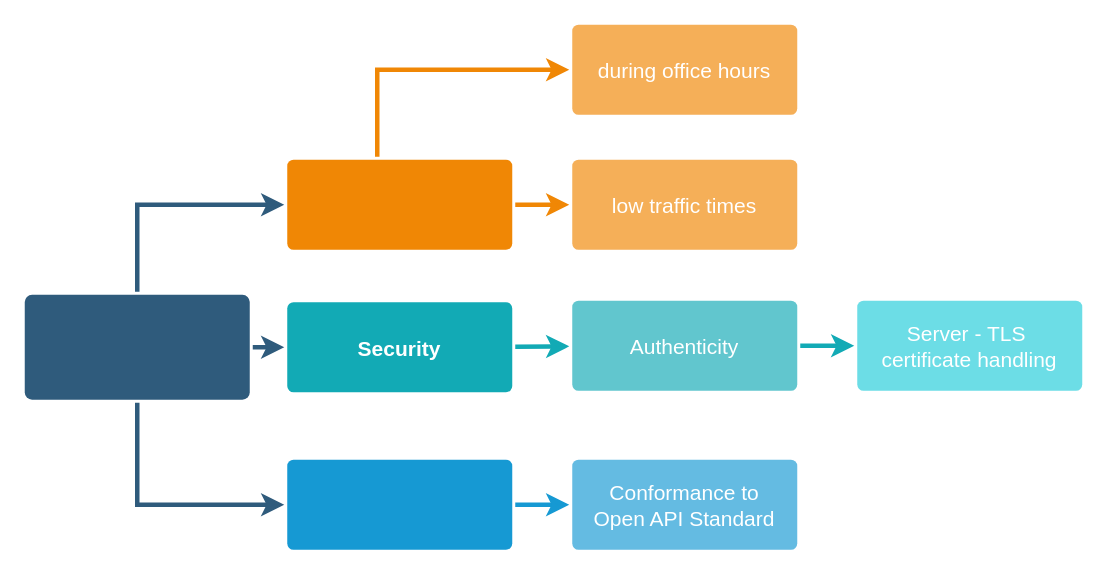
The diagram is 1107 pixels wide and 575 high, and some of its shapes have lost their labels. The centre of each missing label's shape, as x and y in pixels:
"Availability" belongs at [399,204].
"Functional" belongs at [399,504].
"Quality scenarios" belongs at [136,346].
